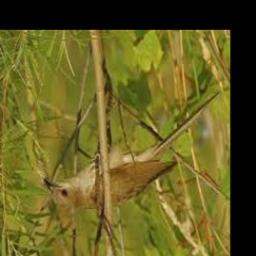Cuckoo: (44, 91, 222, 209)
